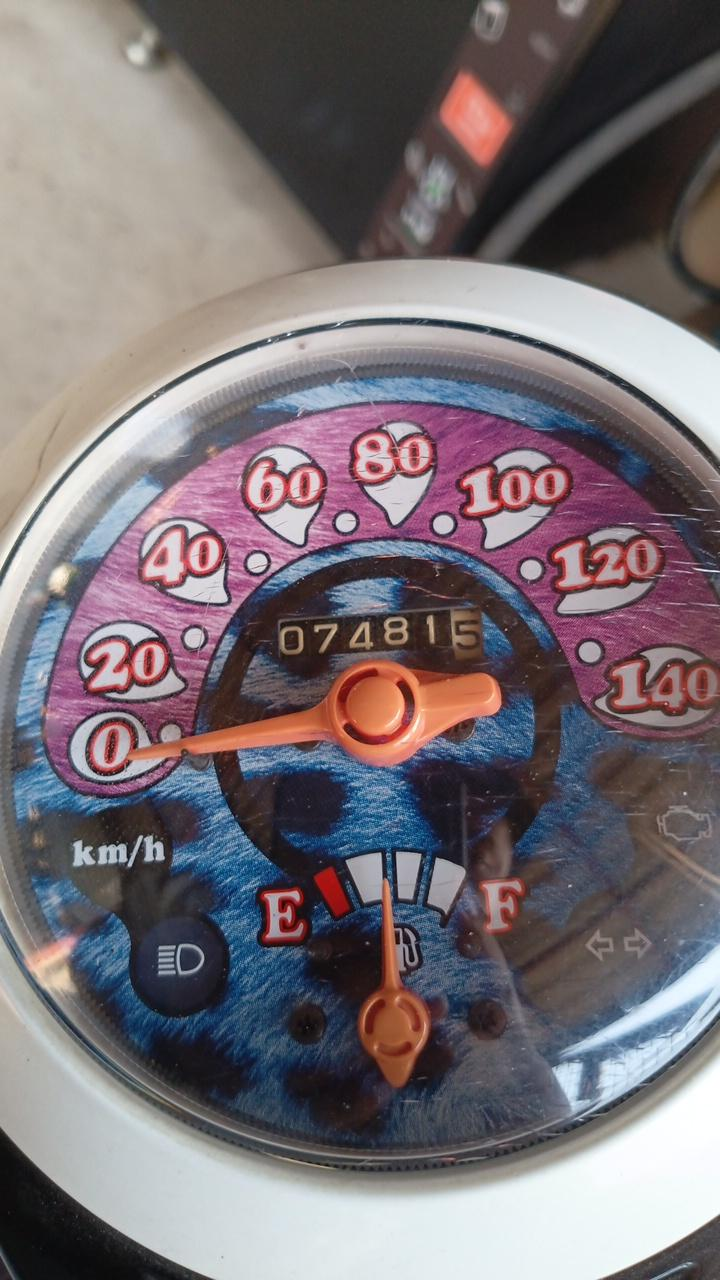0: (279, 624, 304, 657)
1: (426, 613, 437, 646)
4: (348, 619, 374, 652)
5: (454, 617, 481, 651)
7: (312, 621, 339, 655)
8: (383, 615, 408, 646)
odometer: (277, 607, 485, 664)
